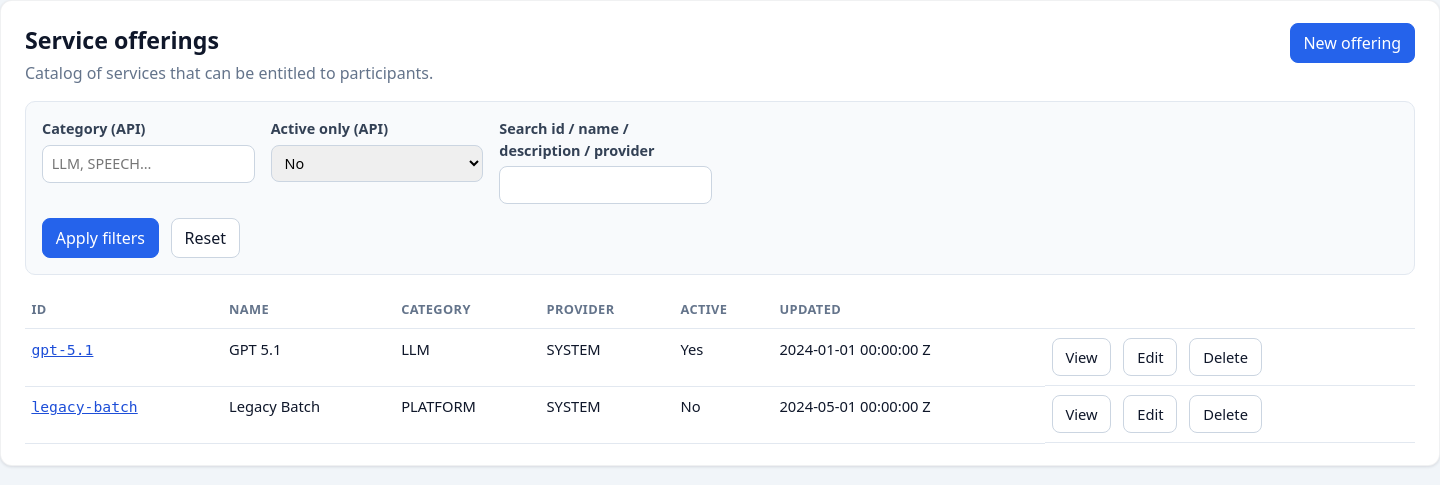
Test: Service offering pages › lists offerings and client-filters by search
The image size is (1440, 485).
expect the text "GPT 5.1" is shown: met, box [223, 329, 395, 386]
expect the text "Legacy Batch" is shown: met, box [223, 386, 395, 443]
Type "legacy" into the field labelled "Search id / name / description / provider".
click(606, 185); type("legacy")  # box [499, 166, 712, 204]
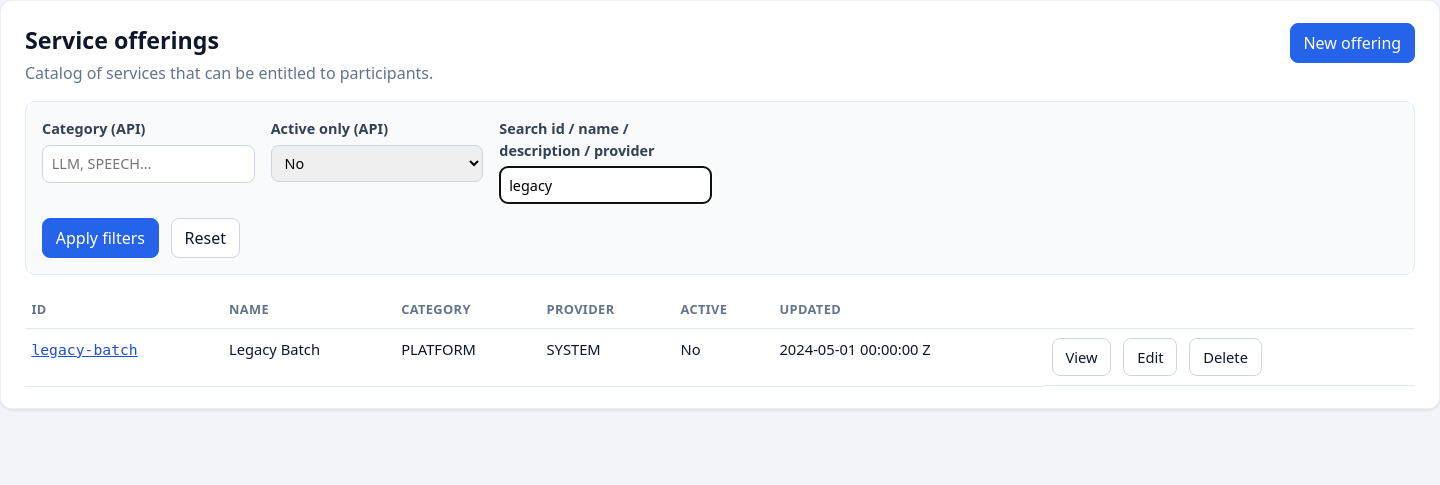
expect the text "Legacy Batch" is shown: met, box [223, 329, 395, 386]
expect the text "GPT 5.1" is gone: met
